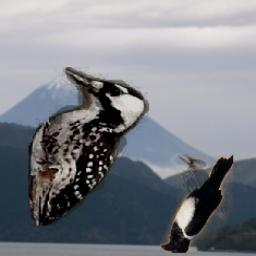Crow: (161, 154, 234, 253)
Woodpecker: (29, 68, 150, 227)
